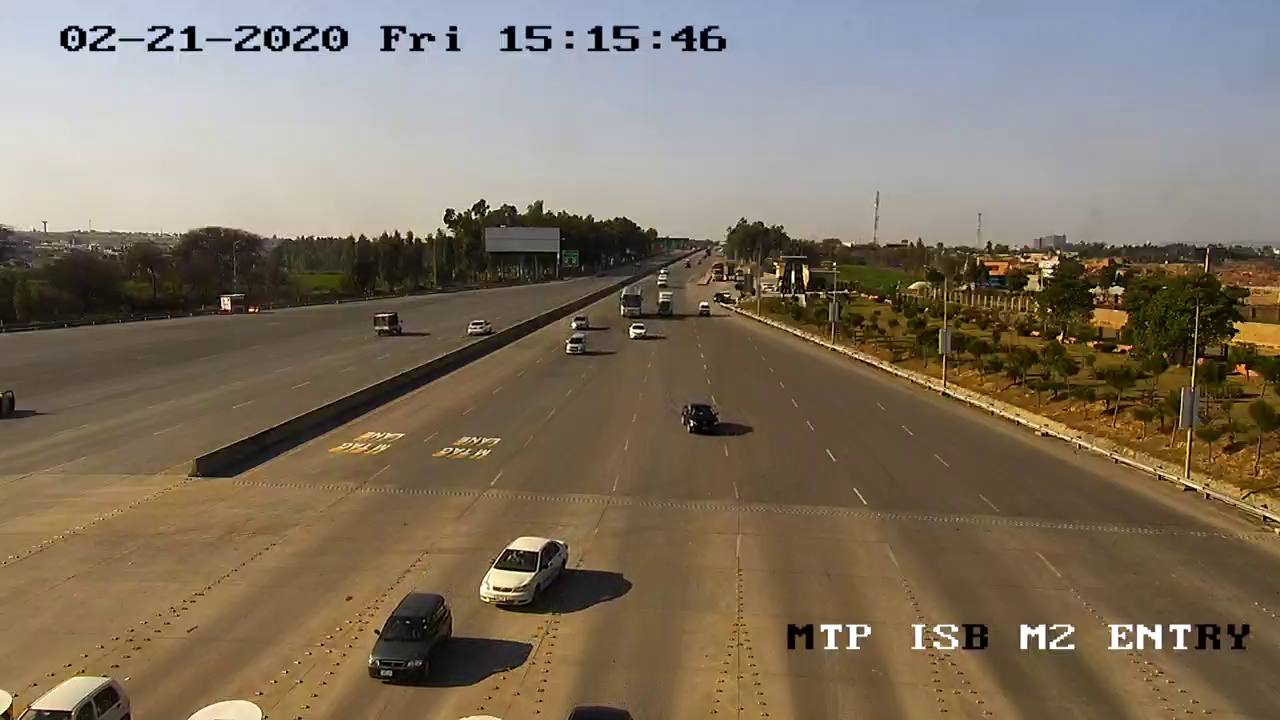f1: (364, 586, 459, 688), (474, 530, 575, 616)
